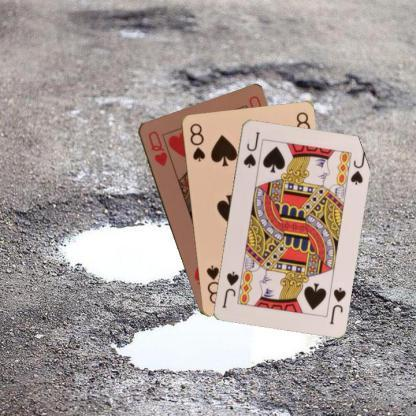8s: (186, 120, 206, 163)
Js: (240, 129, 262, 169), (326, 284, 346, 326)
Qh: (145, 128, 168, 169)
